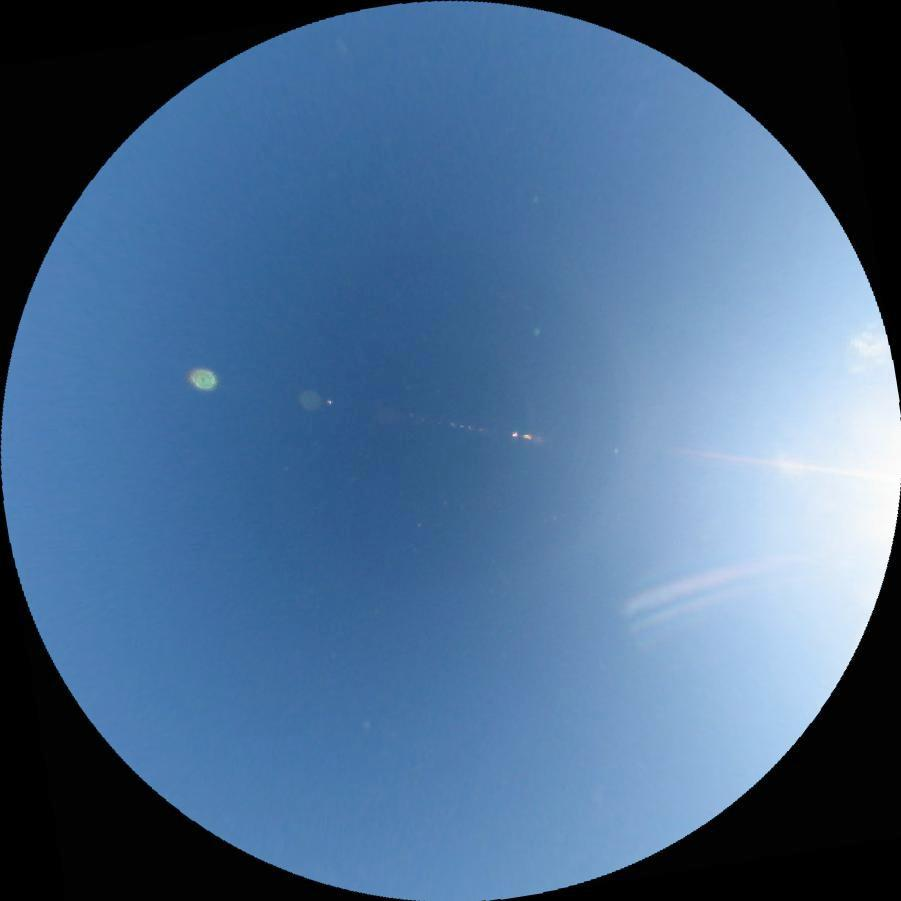parasite: (616, 554, 765, 620), (692, 449, 878, 479)
